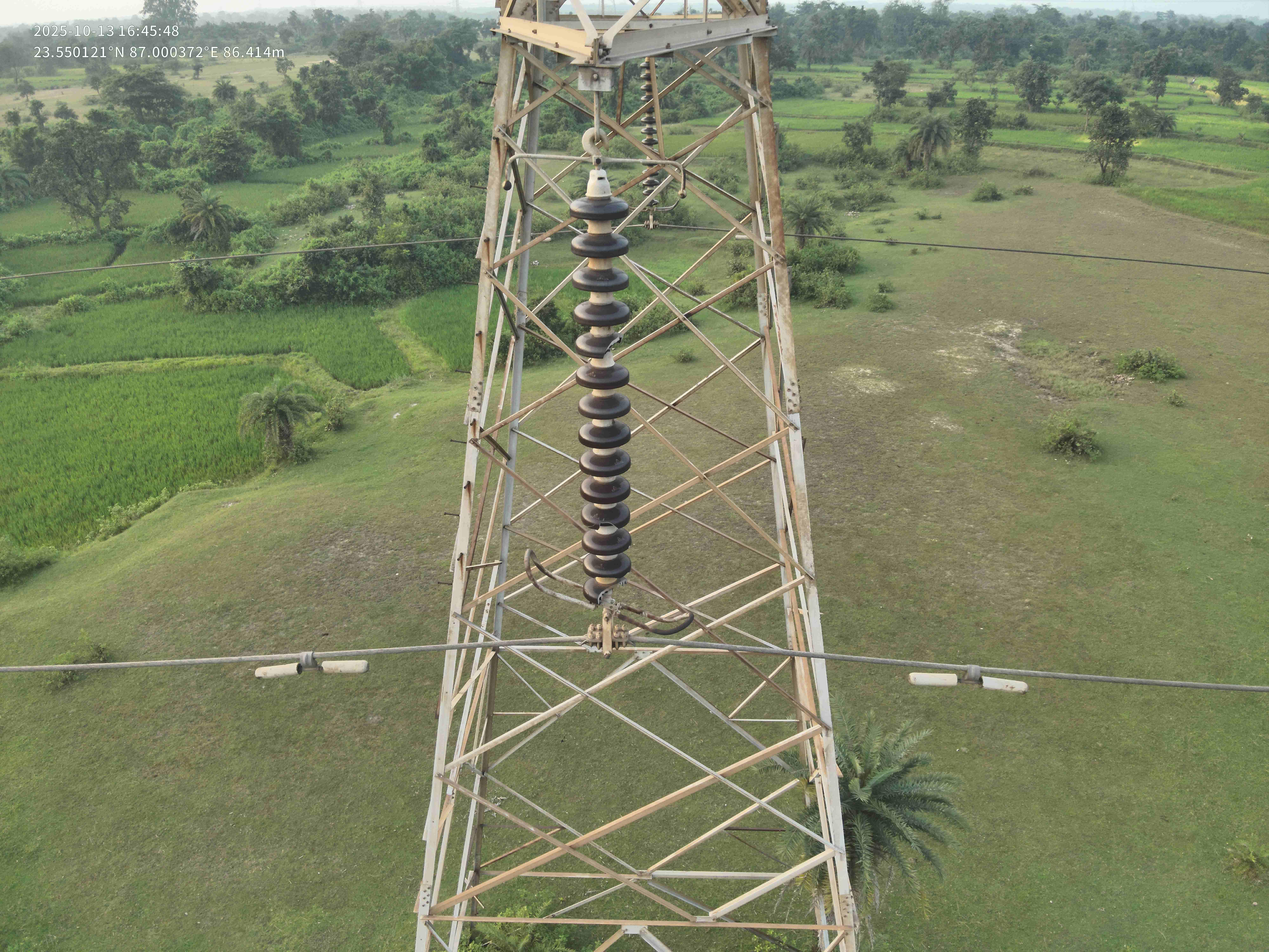broken_insulator: (580, 502, 631, 531), (583, 576, 629, 606), (575, 332, 625, 359), (582, 554, 632, 579), (644, 200, 660, 207)
